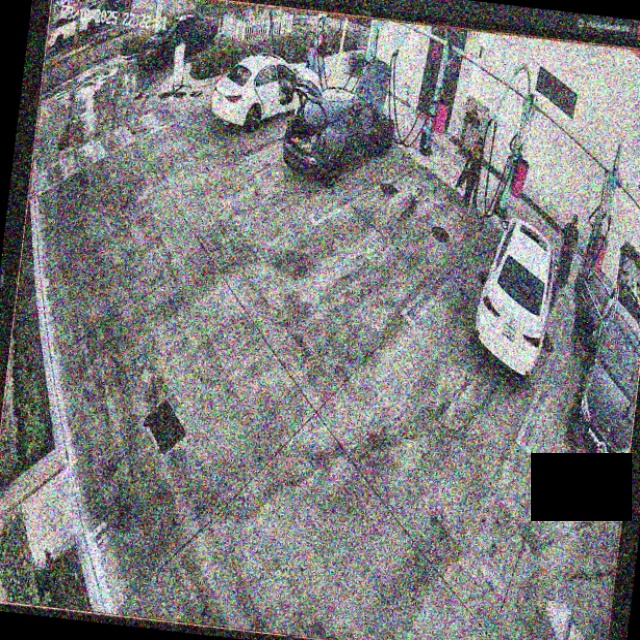Car: (463, 207, 568, 386), (280, 53, 403, 196)
